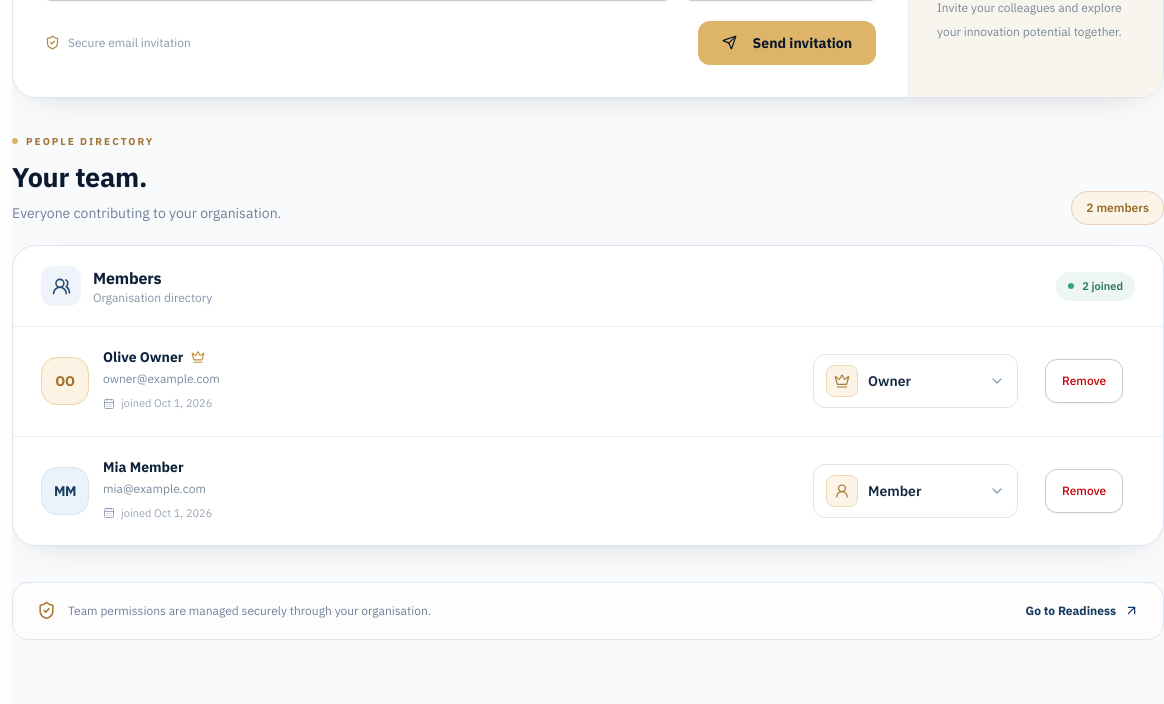
Test: TeamPage › closes the removal question again when the removal fails
The width and height of the screenshot is (1164, 704).
(page scrolled)
Click the button "Remove" in the row of "MM" at (1084, 491), box [1045,469,1123,513]
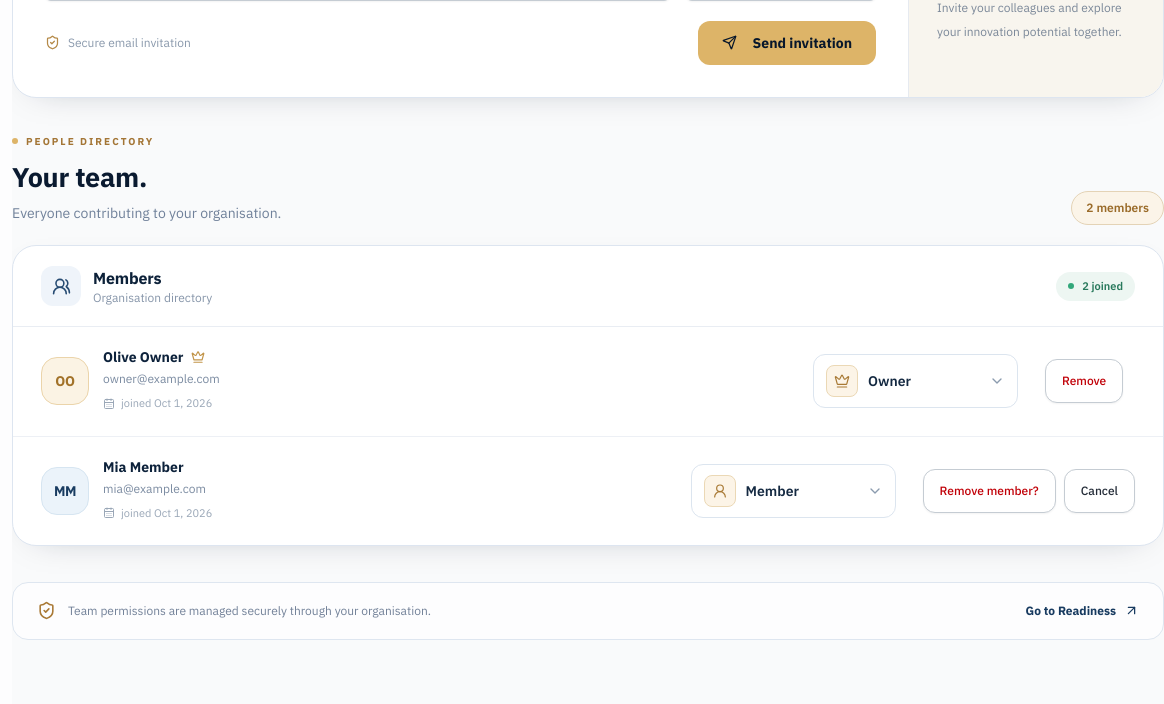
Click the button "Remove member?" at (989, 491), box [923,469,1056,513]
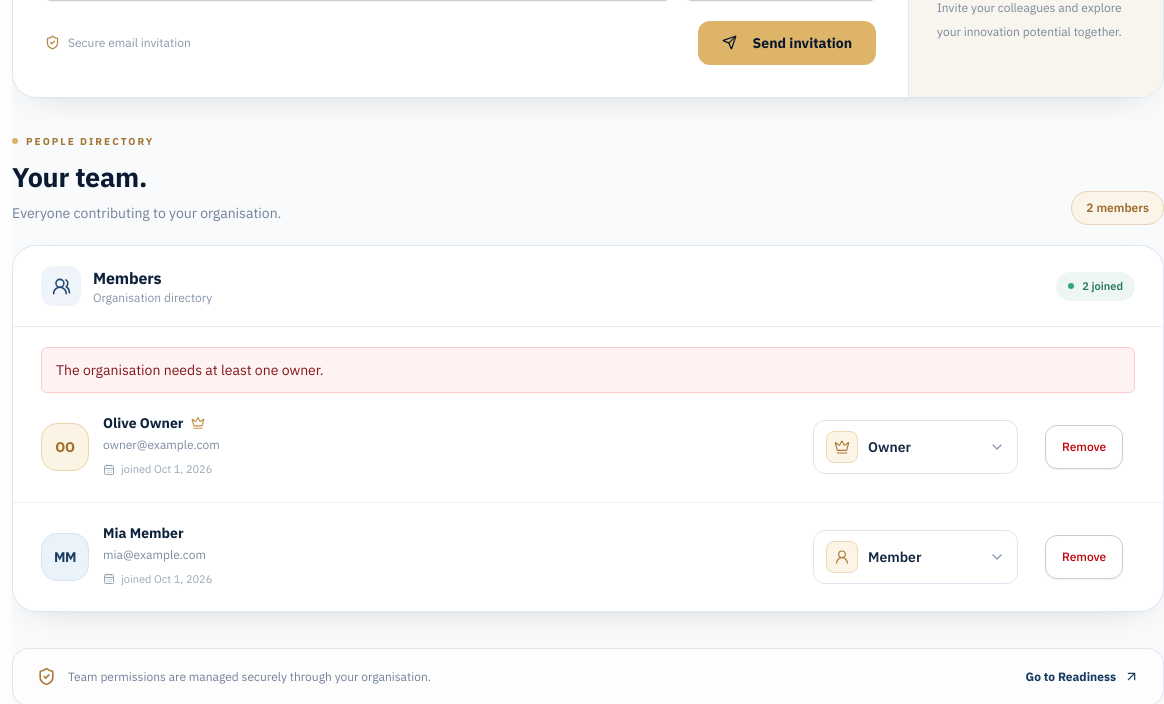
Expected: the button "Remove" in the row of "MM" is enabled, [1045,535,1123,579]
Expected: the message reads "The organisation needs at least one owner.", [56,361,324,379]
Expected: the button "Remove member?" is gone
